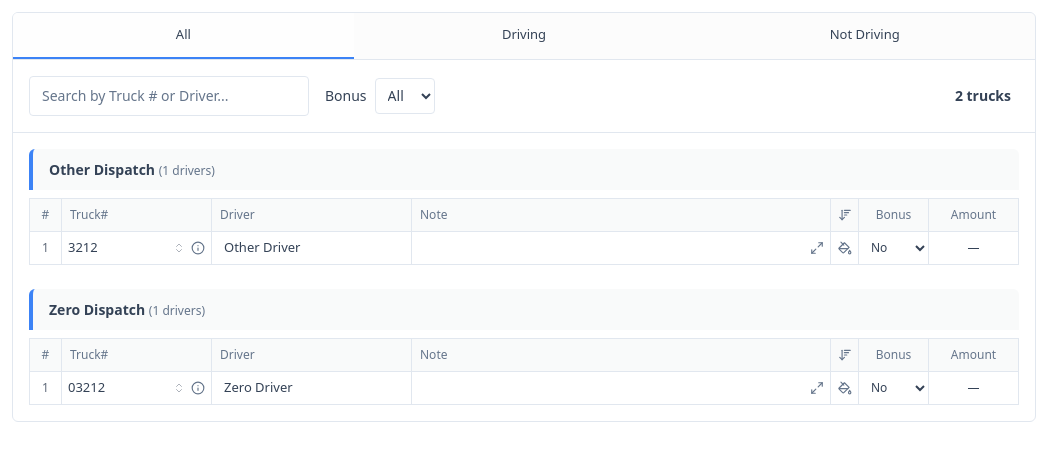
Test case: keeps unsaved notes on a save error and allows retry
In the field named "Note for truck": (621, 248) top-left (412, 232), bottom-right (830, 264), type "Driver is home"
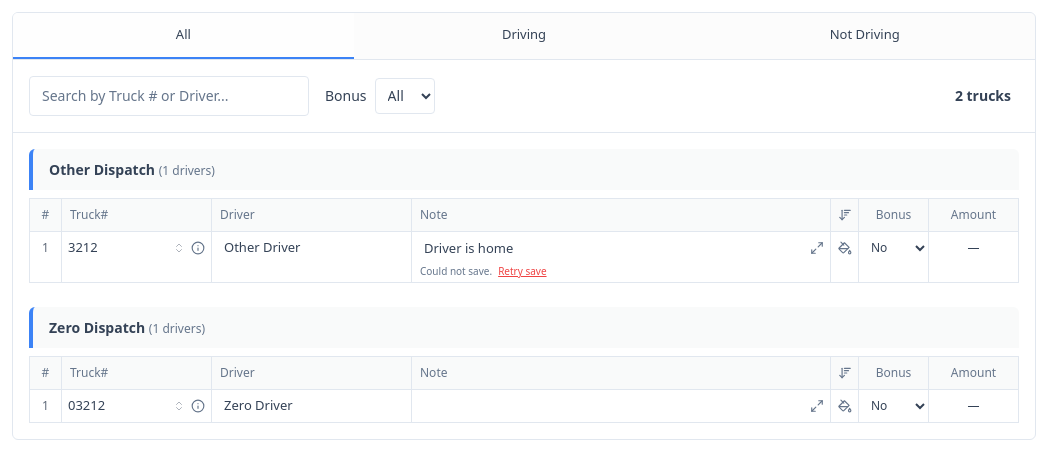
Click the button "Retry save": (522, 271) top-left (498, 264), bottom-right (546, 278)
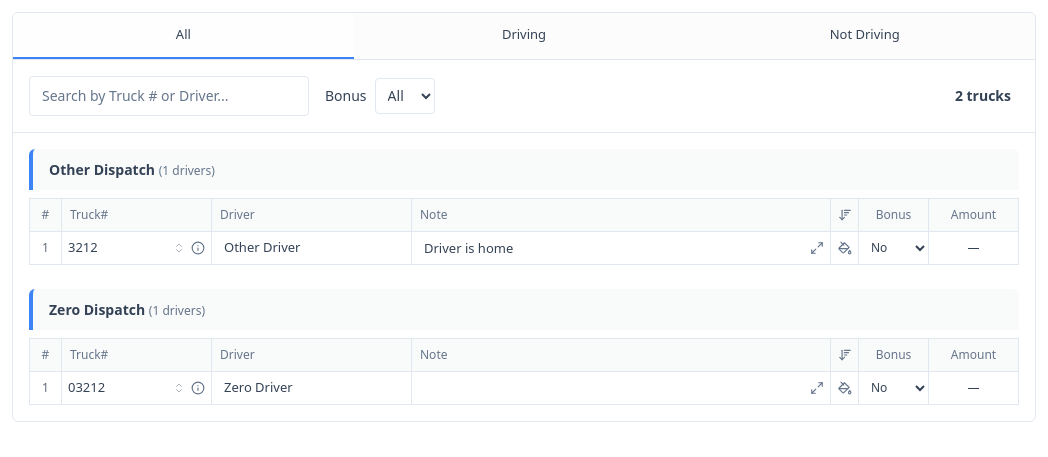
Now the text "Could not save." is gone
